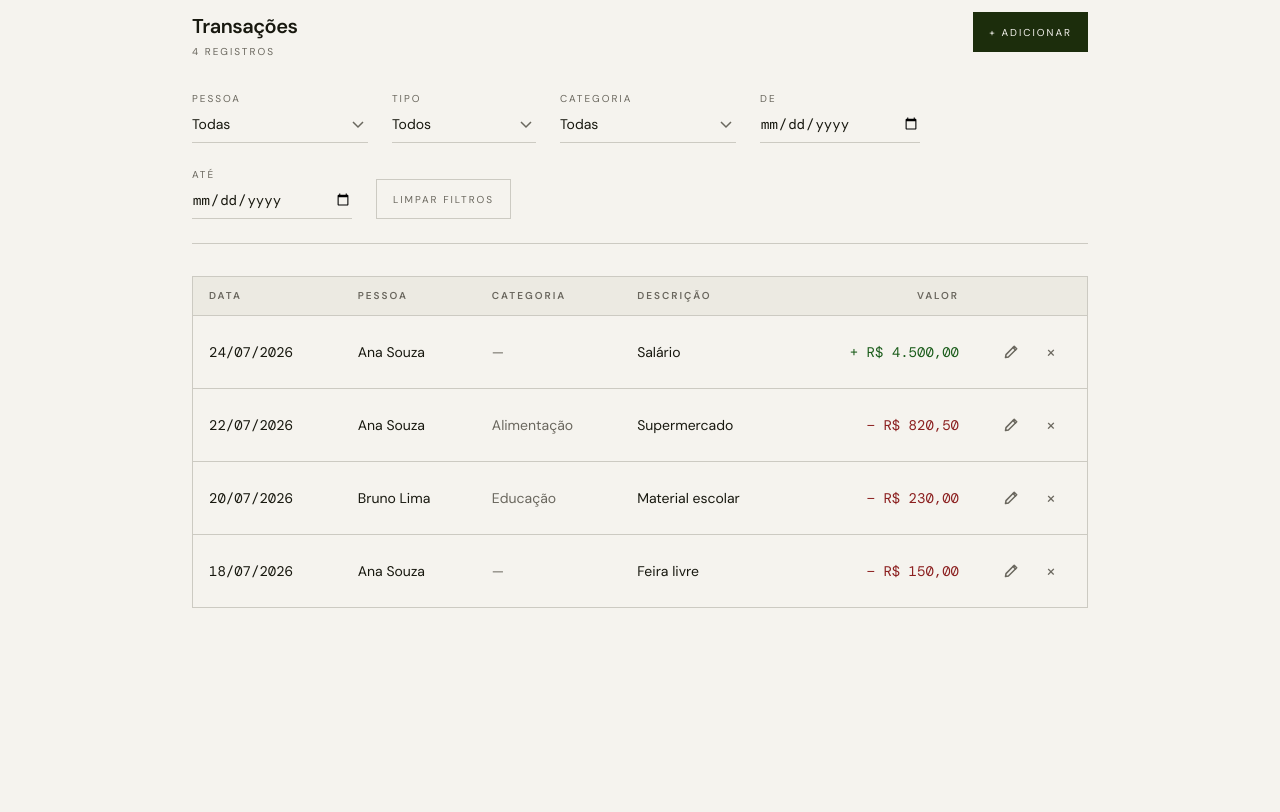
Test: transações › trava o tipo em despesa ao escolher uma pessoa menor de idade
expect the text "Supermercado" is shown: met, box [621, 389, 794, 462]
Click the button "+ Adicionar" at [1031, 32], box [973, 12, 1088, 52]
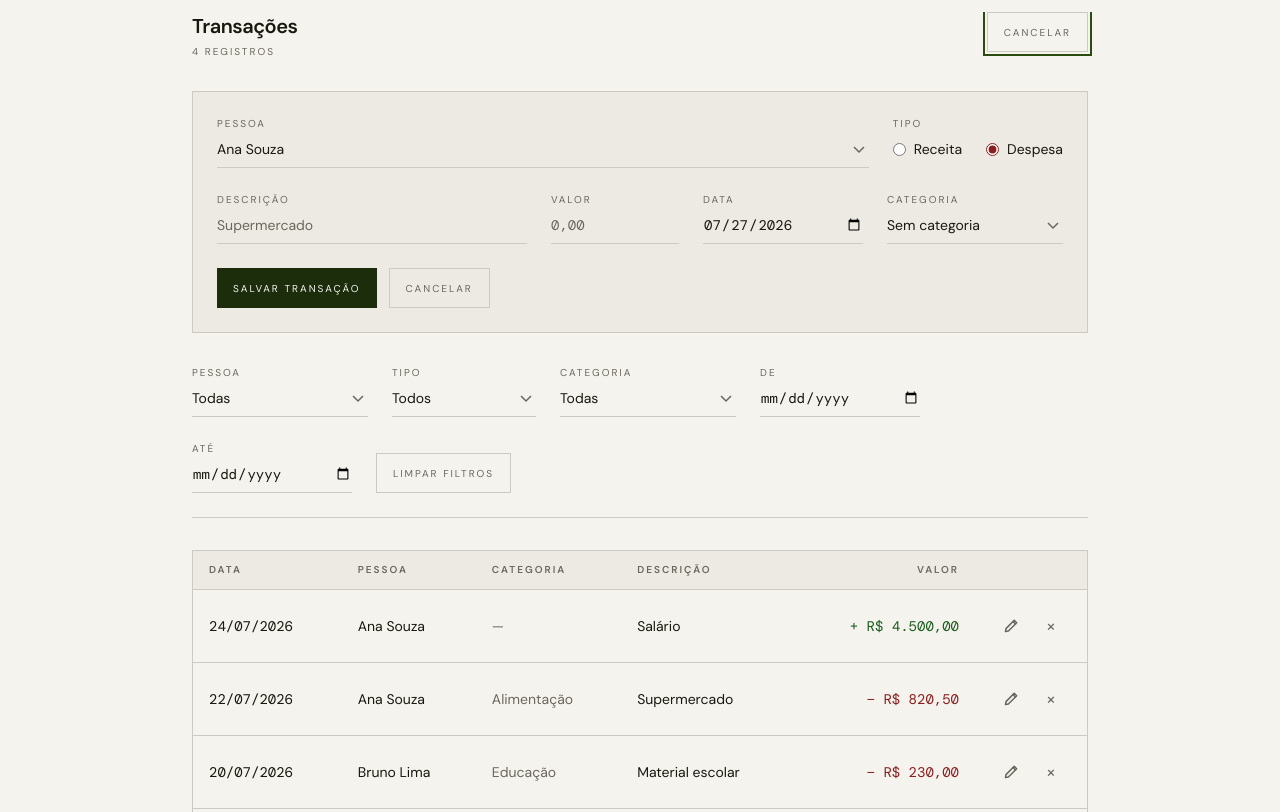
expect the radio button labelled "Receita" is shown: met, box [893, 142, 906, 156]
Select "Bruno Lima" in the dropdown labelled "Pessoa" next to "Receita" at [543, 150], box [217, 131, 869, 168]
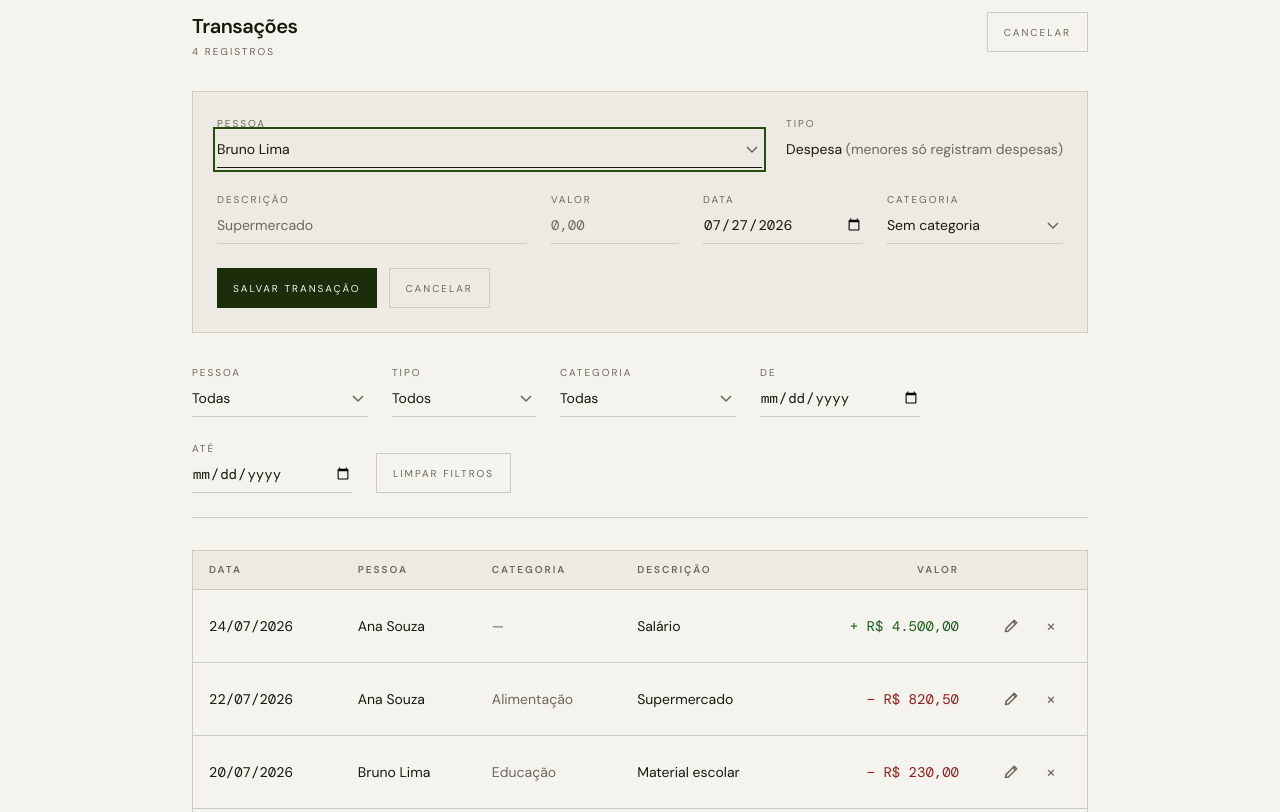
expect the label "Receita" is gone: met
expect the text "(menores só registram despesas)" is shown: met, box [846, 140, 1063, 158]
